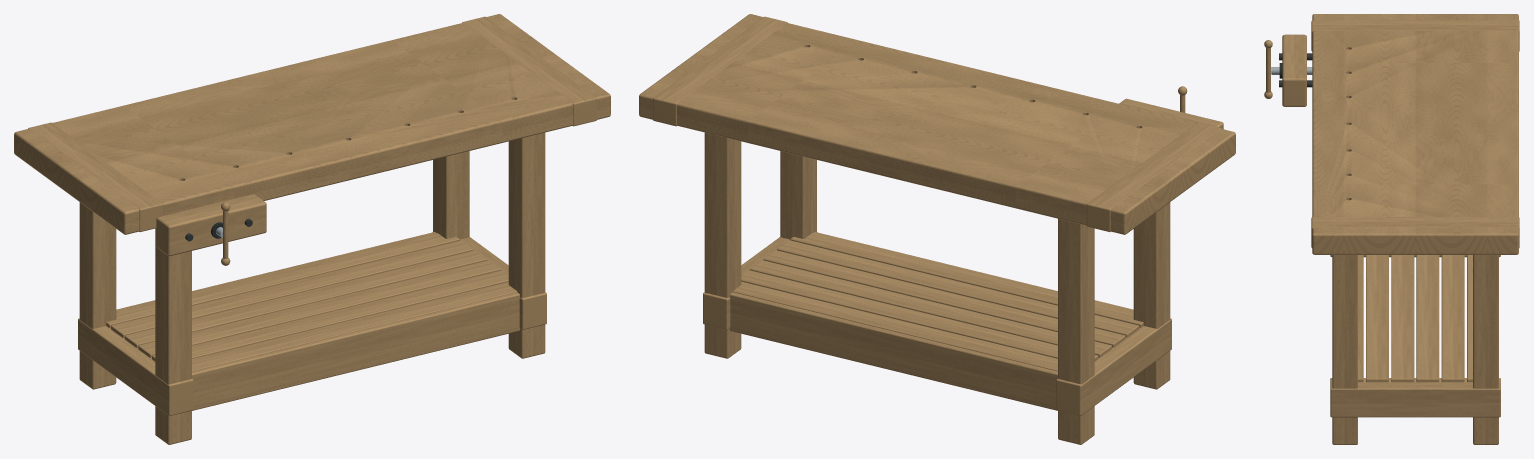
File: carpenters-workbench-with-vise.glb
3 renders of one model, left to right at view 1: azimuth 30°, elevation 25°; view 2: azimuth 150°, elevation 25°; view 3: azimuth 270°, elevation 25°, orthographic. The views are drawn at different scales.
Parts seen in each view (by area): view 1: Thick oak bench slab, Deep long stretcher, Trestle post.002, Trestle post, Trestle post.001, Tool shelf plank.003, Trestle lower tie, Tool shelf plank.002, Tool shelf plank.004, Tool shelf plank.001, Tool shelf plank, Tool shelf plank.005 (+6 smaller); view 2: Thick oak bench slab, Deep long stretcher.001, Trestle post.003, Trestle post.001, Trestle post, Trestle lower tie, Tool shelf plank.002, Tool shelf plank.003, Tool shelf plank.001, Tool shelf plank.004, Tool shelf plank.005, Tool shelf plank (+5 smaller); view 3: Thick oak bench slab, Trestle lower tie.001, Trestle post.003, Trestle post.002, Tool shelf plank.002, Tool shelf plank.004, Tool shelf plank.003, Tool shelf plank.001, End cap joint, End cap joint.001, Front vise moving jaw, Tool shelf plank (+1 smaller).
Boxes of the visible parts, x1,y1,x2,y2 form: Thick oak bench slab: (14,14,610,234); Deep long stretcher: (192,292,519,410); Trestle post.002: (508,132,545,358); Trestle post: (155,228,191,444); Trestle post.001: (79,202,116,389); Tool shelf plank.003: (124,250,486,347); Trestle lower tie: (78,318,193,415); Tool shelf plank.002: (138,260,500,357); Tool shelf plank.004: (111,240,473,337); Tool shelf plank.001: (152,270,508,361); Tool shelf plank: (192,282,517,371); Tool shelf plank.005: (106,233,459,327); Thick oak bench slab: (639,14,1235,234); Deep long stretcher.001: (730,292,1057,410); Trestle post.003: (704,132,741,358); Trestle post.001: (1058,218,1094,444); Trestle post: (1133,202,1170,389); Trestle lower tie: (1056,318,1171,415); Tool shelf plank.002: (763,250,1125,347); Tool shelf plank.003: (749,260,1111,357); Tool shelf plank.001: (777,240,1139,337); Tool shelf plank.004: (741,270,1098,361); Tool shelf plank.005: (733,281,1057,371); Tool shelf plank: (790,232,1143,327); Thick oak bench slab: (1312,14,1518,254); Trestle lower tie.001: (1330,378,1500,417); Trestle post.003: (1473,255,1498,444); Trestle post.002: (1332,255,1357,444); Tool shelf plank.002: (1391,255,1414,382); Tool shelf plank.004: (1441,255,1464,382); Tool shelf plank.003: (1416,255,1439,382); Tool shelf plank.001: (1366,255,1388,382); End cap joint: (1311,20,1519,51); End cap joint.001: (1311,217,1519,247); Front vise moving jaw: (1282,34,1306,106); Tool shelf plank: (1358,255,1363,382).
Size of the model in its own units: 1.82 by 0.938 by 0.8895.
5 materials, 5 textured.
